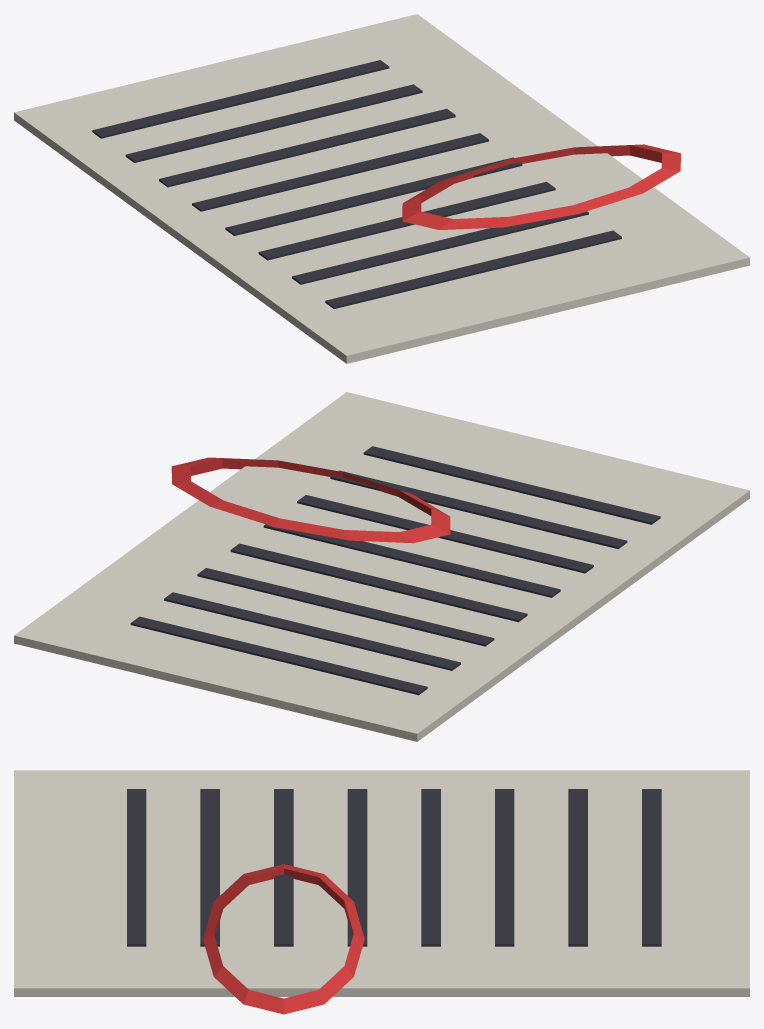
Rendered from delivery_list.glb.
3 views of the same model, one above another, from view 1: azimuth 30°, elevation 25°; view 2: azimuth 150°, elevation 25°; view 3: azimuth 270°, elevation 25° (orthographic). The views are drawn at different scales.
Visible parts, largest first — view 1: sheet_paper, lines_ink (×8), circle_ink_red; view 2: sheet_paper, lines_ink (×8), circle_ink_red; view 3: sheet_paper, lines_ink (×8), circle_ink_red.
Boxes of the visible parts, x1=… form: sheet_paper: x1=14, y1=14, x2=749, y2=363; lines_ink (×8): x1=92, y1=60, x2=621, y2=308; circle_ink_red: x1=402, y1=144, x2=680, y2=229; sheet_paper: x1=14, y1=392, x2=749, y2=741; lines_ink (×8): x1=130, y1=446, x2=660, y2=695; circle_ink_red: x1=171, y1=457, x2=450, y2=543; sheet_paper: x1=14, y1=770, x2=749, y2=996; lines_ink (×8): x1=127, y1=789, x2=661, y2=946; circle_ink_red: x1=203, y1=864, x2=364, y2=1014.
Bounding box in the file's own units: 0.2376 × 0.0076 × 0.3.
